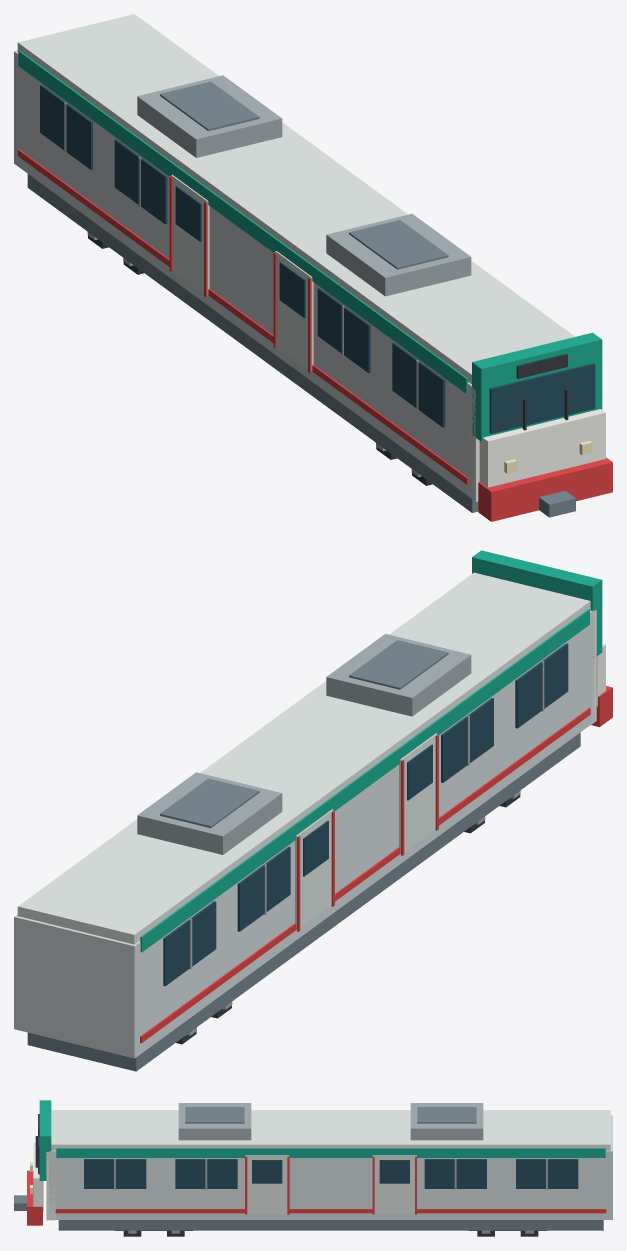
The model's file is mrt6-front.gltf.
3 views of the same model, one above another, from view 1: azimuth 30°, elevation 25°; view 2: azimuth 150°, elevation 25°; view 3: azimuth 270°, elevation 25° (orthographic). The views are drawn at different scales.
Parts seen in each view (by area): view 1: roof-steel, stainless-steel-main-body, upper-green-longitudinal-stripe-left, lower-belly, front-cab-white-nose, roof-air-conditioning--4, roof-air-conditioning-4, green-cab-windshield-shell, tinted-wide-windscreen, front-red-skirt, lower-red-line-left, roof-ac-grill--4 (+12 smaller); view 2: roof-steel, stainless-steel-main-body, lower-belly, upper-green-longitudinal-stripe-left, roof-air-conditioning--4, roof-air-conditioning-4, green-cab-windshield-shell, lower-red-line-left, roof-ac-grill-4, roof-ac-grill--4, tinted-window--1-7.45, tinted-window--1--4.3 (+6 smaller); view 3: stainless-steel-main-body, roof-steel, lower-belly, upper-green-longitudinal-stripe-right, lower-red-line-right, roof-air-conditioning--4, roof-air-conditioning-4, tinted-window-1--4.3, tinted-window-1-4.3, tinted-window-1--7.45, tinted-window-1-7.45, recessed-sliding-door-1--2.2 (+10 smaller).
Part boxes in pixels (bbox=[...]): roof-steel: bbox=[17, 14, 575, 384]; stainless-steel-main-body: bbox=[14, 50, 473, 499]; upper-green-longitudinal-stripe-left: bbox=[18, 50, 467, 393]; lower-belly: bbox=[27, 174, 478, 512]; front-cab-white-nose: bbox=[479, 409, 605, 487]; roof-air-conditioning--4: bbox=[137, 75, 282, 157]; roof-air-conditioning-4: bbox=[326, 214, 471, 296]; green-cab-windshield-shell: bbox=[472, 332, 602, 441]; tinted-wide-windscreen: bbox=[489, 363, 595, 433]; front-red-skirt: bbox=[478, 457, 612, 521]; lower-red-line-left: bbox=[17, 149, 468, 484]; roof-ac-grill--4: bbox=[160, 81, 259, 131]; roof-steel: bbox=[17, 572, 590, 944]; stainless-steel-main-body: bbox=[14, 610, 594, 1058]; lower-belly: bbox=[27, 732, 580, 1071]; upper-green-longitudinal-stripe-left: bbox=[140, 609, 589, 952]; roof-air-conditioning--4: bbox=[137, 772, 282, 854]; roof-air-conditioning-4: bbox=[326, 634, 471, 716]; green-cab-windshield-shell: bbox=[472, 550, 602, 658]; lower-red-line-left: bbox=[140, 708, 590, 1043]; roof-ac-grill-4: bbox=[349, 640, 448, 689]; roof-ac-grill--4: bbox=[160, 778, 259, 827]; tinted-window--1-7.45: bbox=[515, 643, 568, 728]; tinted-window--1--4.3: bbox=[237, 846, 290, 931]; stainless-steel-main-body: bbox=[49, 1115, 612, 1219]; roof-steel: bbox=[51, 1110, 610, 1150]; lower-belly: bbox=[58, 1220, 603, 1230]; upper-green-longitudinal-stripe-right: bbox=[56, 1148, 605, 1157]; lower-red-line-right: bbox=[55, 1209, 606, 1213]; roof-air-conditioning--4: bbox=[410, 1103, 483, 1140]; roof-air-conditioning-4: bbox=[178, 1103, 251, 1140]; tinted-window-1--4.3: bbox=[424, 1159, 486, 1188]; tinted-window-1-4.3: bbox=[175, 1159, 237, 1188]; tinted-window-1--7.45: bbox=[516, 1159, 578, 1188]; tinted-window-1-7.45: bbox=[84, 1159, 146, 1188]; recessed-sliding-door-1--2.2: bbox=[372, 1155, 416, 1213].
Bounding box in the file's own units: 3.15 × 4.11 × 20.66.
